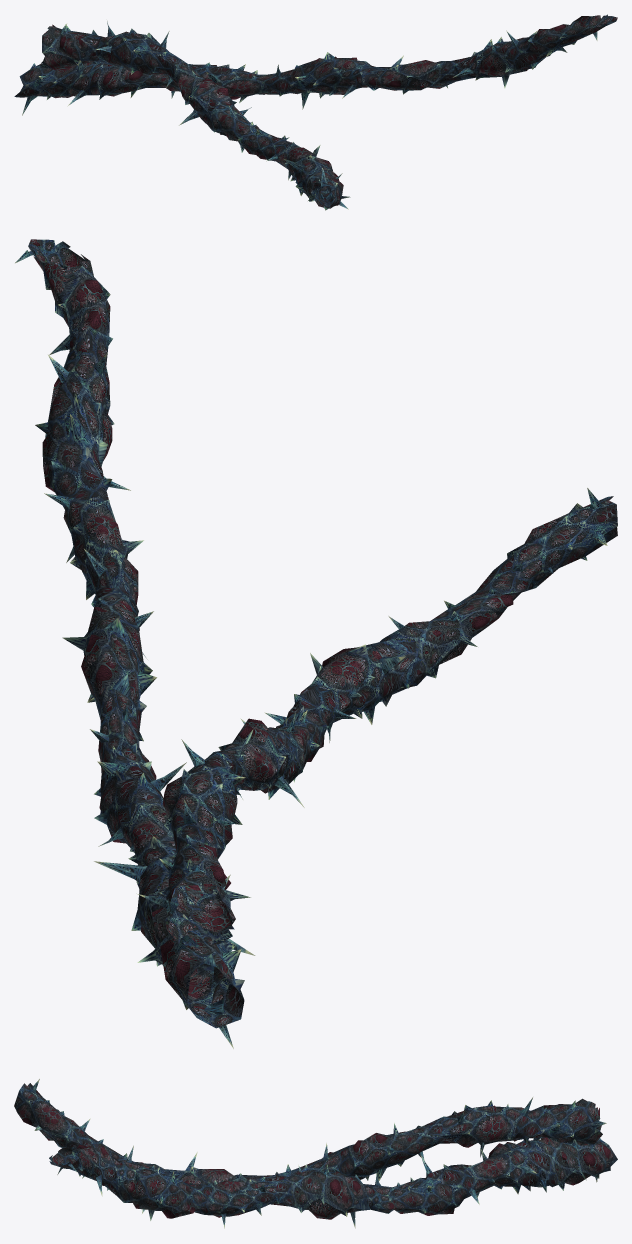
The model's file is 02_Makaijyua_05.fbx.
3 views of the same model, one above another, from view 1: azimuth 30°, elevation 25°; view 2: azimuth 150°, elevation 25°; view 3: azimuth 270°, elevation 25° (orthographic). The views are drawn at different scales.
Parts seen in each view (by area): view 1: LODGroup_3_MainMesh_1_SubMesh_1; view 2: LODGroup_3_MainMesh_1_SubMesh_1; view 3: LODGroup_3_MainMesh_1_SubMesh_1.
Part boxes in pixels (x1=…): LODGroup_3_MainMesh_1_SubMesh_1: x1=14, y1=14, x2=617, y2=210; LODGroup_3_MainMesh_1_SubMesh_1: x1=15, y1=239, x2=617, y2=1048; LODGroup_3_MainMesh_1_SubMesh_1: x1=14, y1=1079, x2=617, y2=1228.
Size of the model in its own units: 895 by 448 by 1160.
